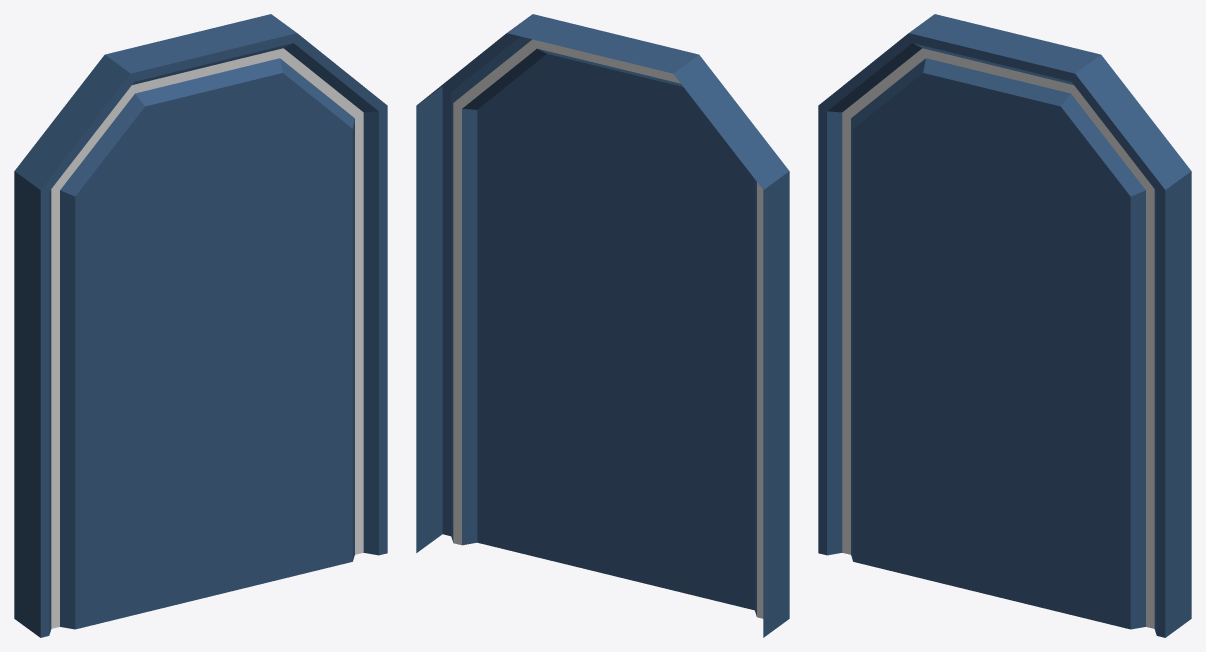
File: Door 1.fbx
3 renders of one model, left to right at view 1: azimuth 30°, elevation 25°; view 2: azimuth 150°, elevation 25°; view 3: azimuth 330°, elevation 25°, orthographic.
Parts seen in each view (by area): view 1: Door1; view 2: Door1; view 3: Door1.
Part boxes in pixels (<box>): Door1: <box>14,14,387,637</box>; Door1: <box>416,14,789,637</box>; Door1: <box>818,14,1191,637</box>.
Bounding box in the file's own units: 40 × 59.74 × 5.21.
